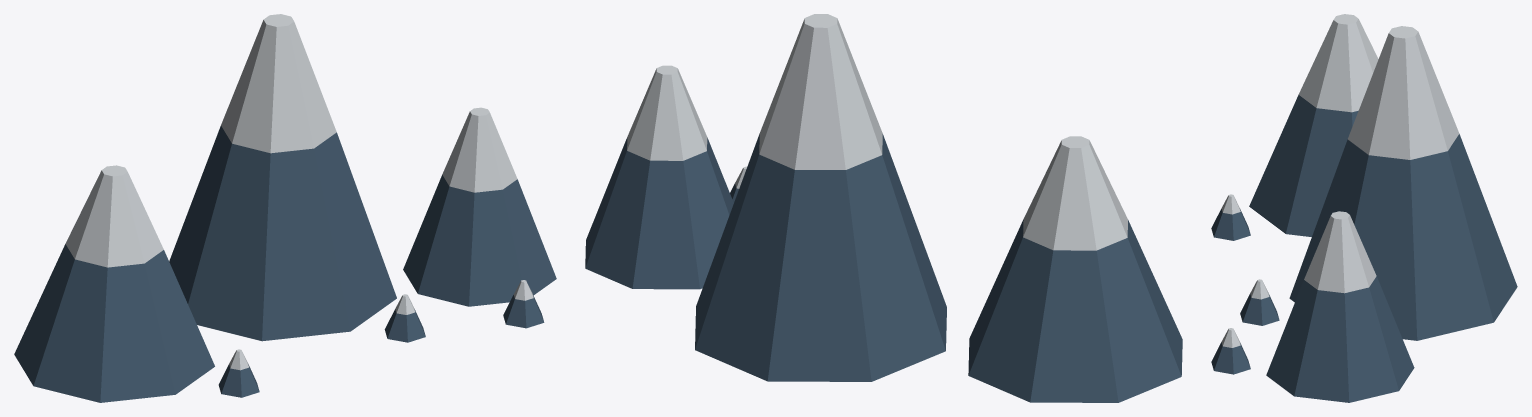
Rendered from Frosty_MountainBackdrop_Standard.glb.
3 renders of one model, left to right at view 1: azimuth 30°, elevation 25°; view 2: azimuth 150°, elevation 25°; view 3: azimuth 270°, elevation 25°, orthographic. The views are drawn at different scales.
Parts seen in each view (by area): view 1: Frosty_MountainBackdrop_Standard; view 2: Frosty_MountainBackdrop_Standard; view 3: Frosty_MountainBackdrop_Standard.
Boxes of the visible parts, <box> form: Frosty_MountainBackdrop_Standard: <box>14,14,556,402</box>; Frosty_MountainBackdrop_Standard: <box>585,14,1182,402</box>; Frosty_MountainBackdrop_Standard: <box>1211,14,1517,402</box>.
Size of the model in its own units: 19.96 by 10 by 10.66.
